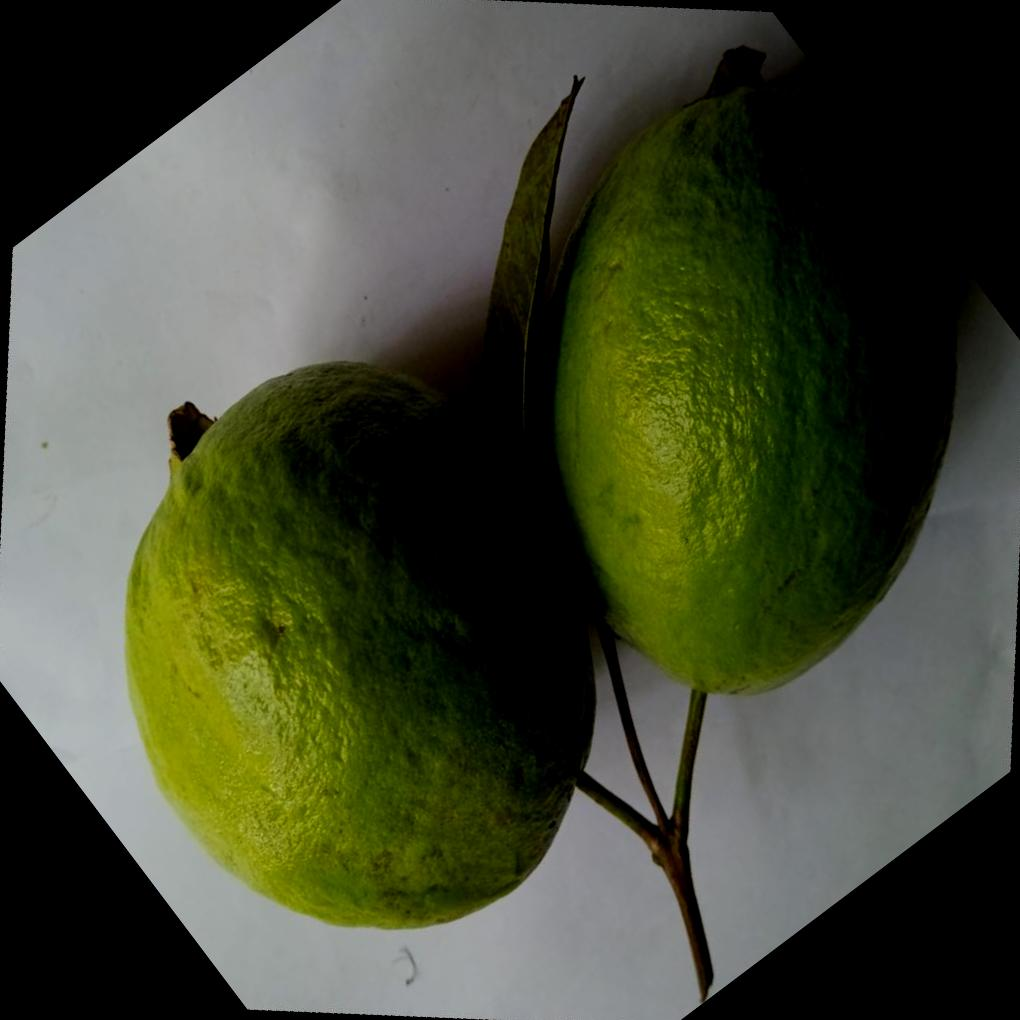FreshGuava: (124, 74, 961, 931)
